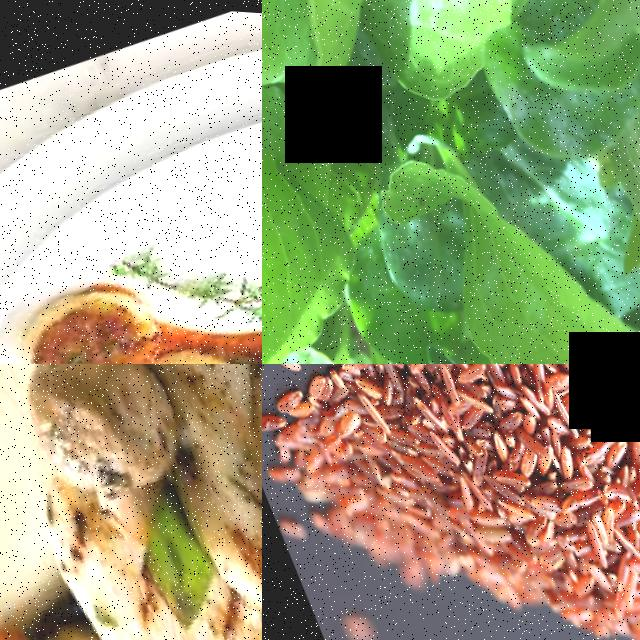red rice: (262, 364, 640, 640)
sea scallops: (3, 260, 176, 364)
spinach: (262, 60, 391, 364), (432, 183, 632, 364), (266, 0, 558, 87), (594, 106, 640, 217)
